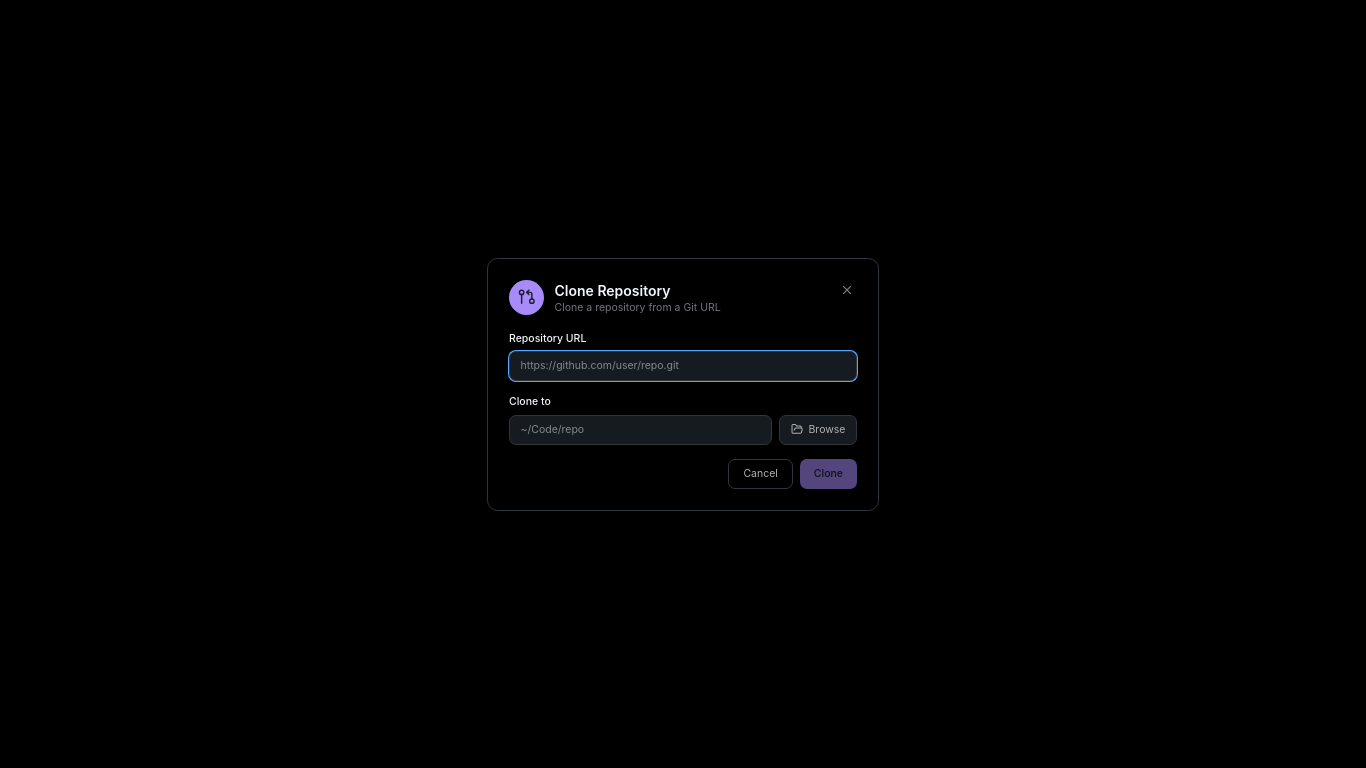
Test case: CloneRepoDialog › opens file dialog and sets path when Browse is clicked
Click the button "Browse" at (818, 430), box [780,414,857,444]
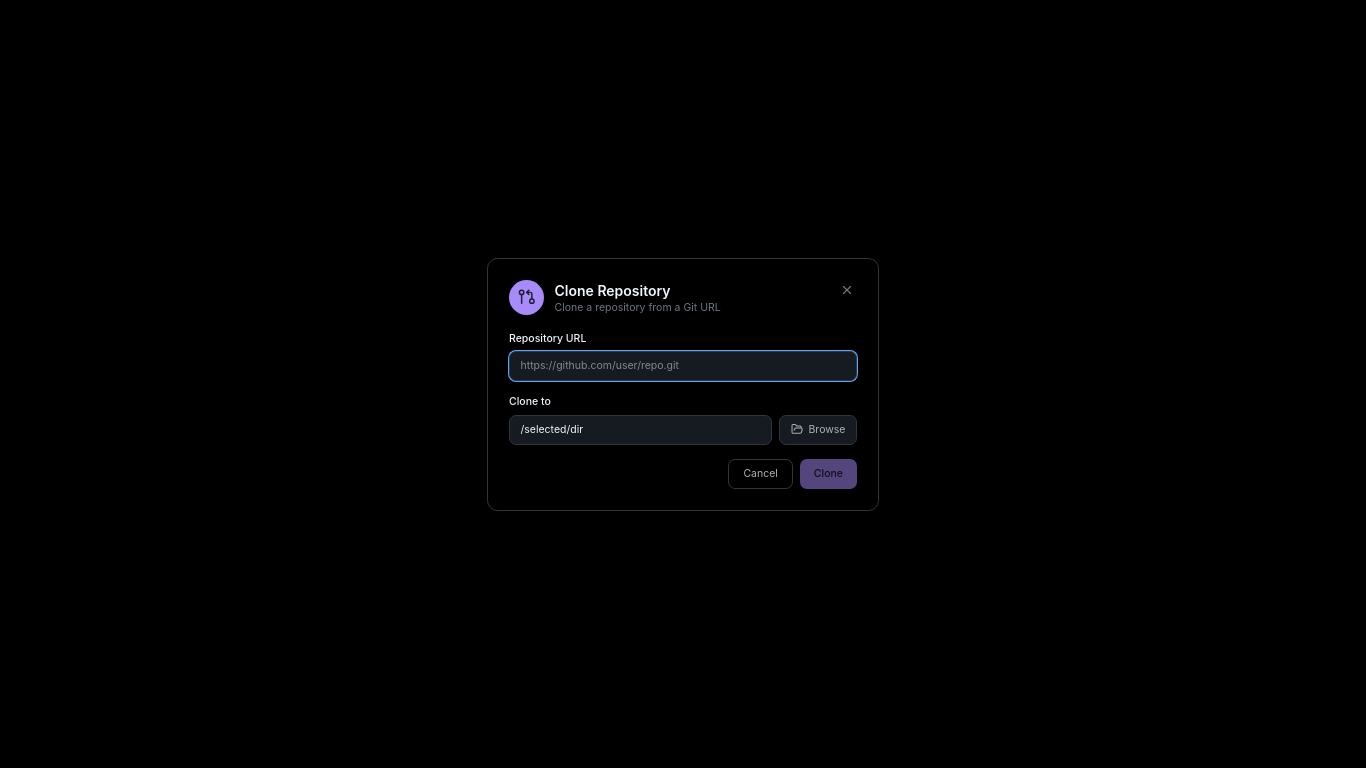
Expected: the field with placeholder "~/Code/repo" holds "/selected/dir", [509,414,772,444]
